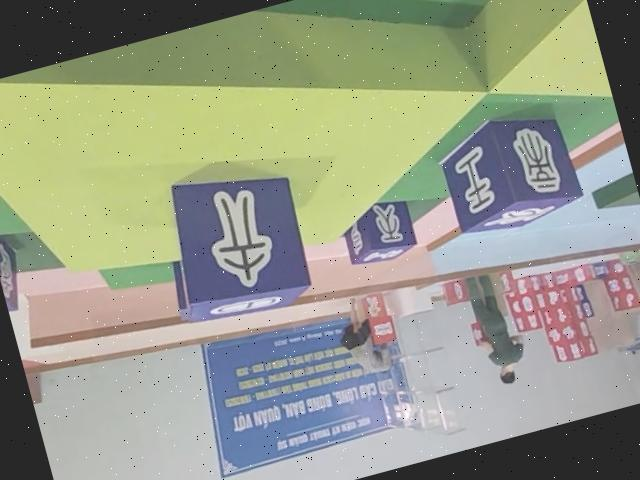R2 Fake Blue: (151, 154, 318, 333), (430, 98, 587, 241), (333, 194, 417, 269), (0, 212, 28, 309)
